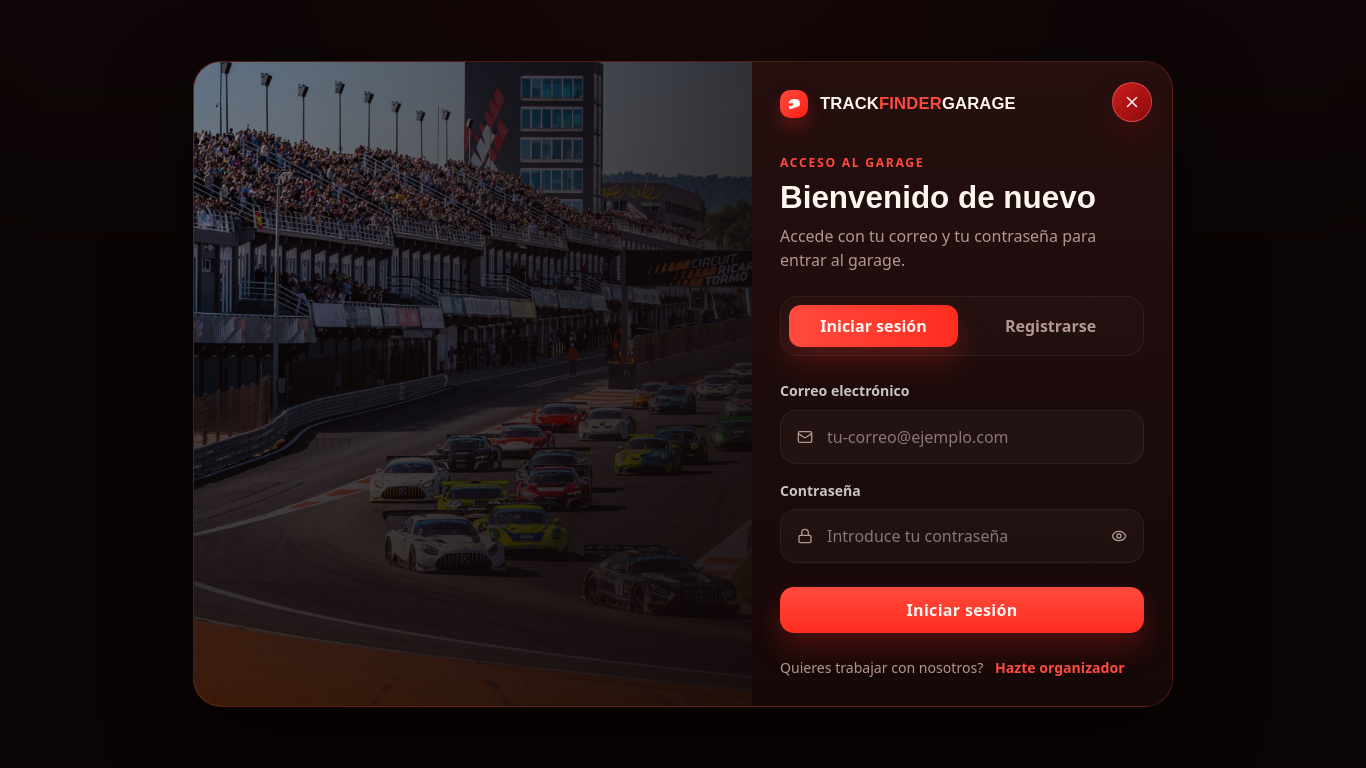
AuthDialog › renders backend login failures
Type "juanje@example.com" into the field labelled "Correo electrónico" at coordinates (970, 437), box [825, 424, 1115, 450]
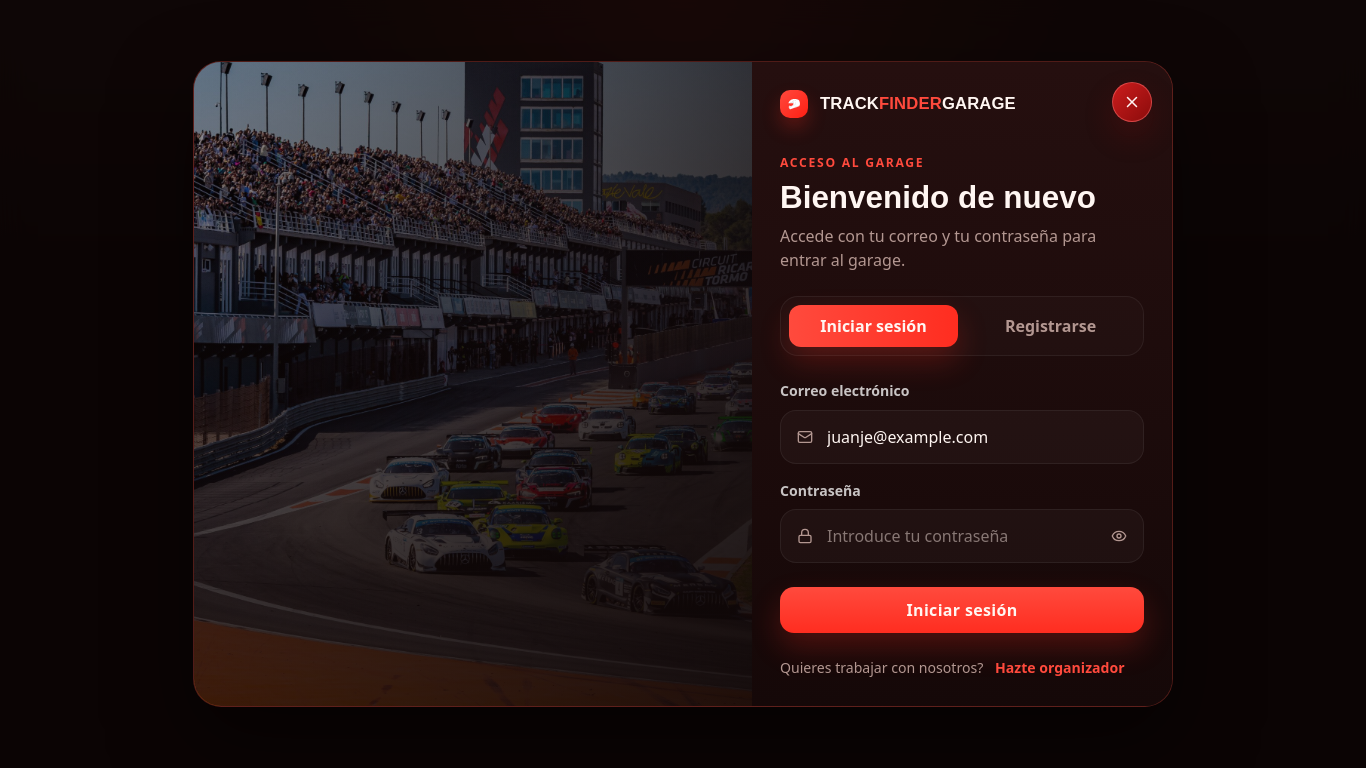
Type "secreto" into the password field labelled "Contraseña" at coordinates (962, 536), box [825, 523, 1099, 549]
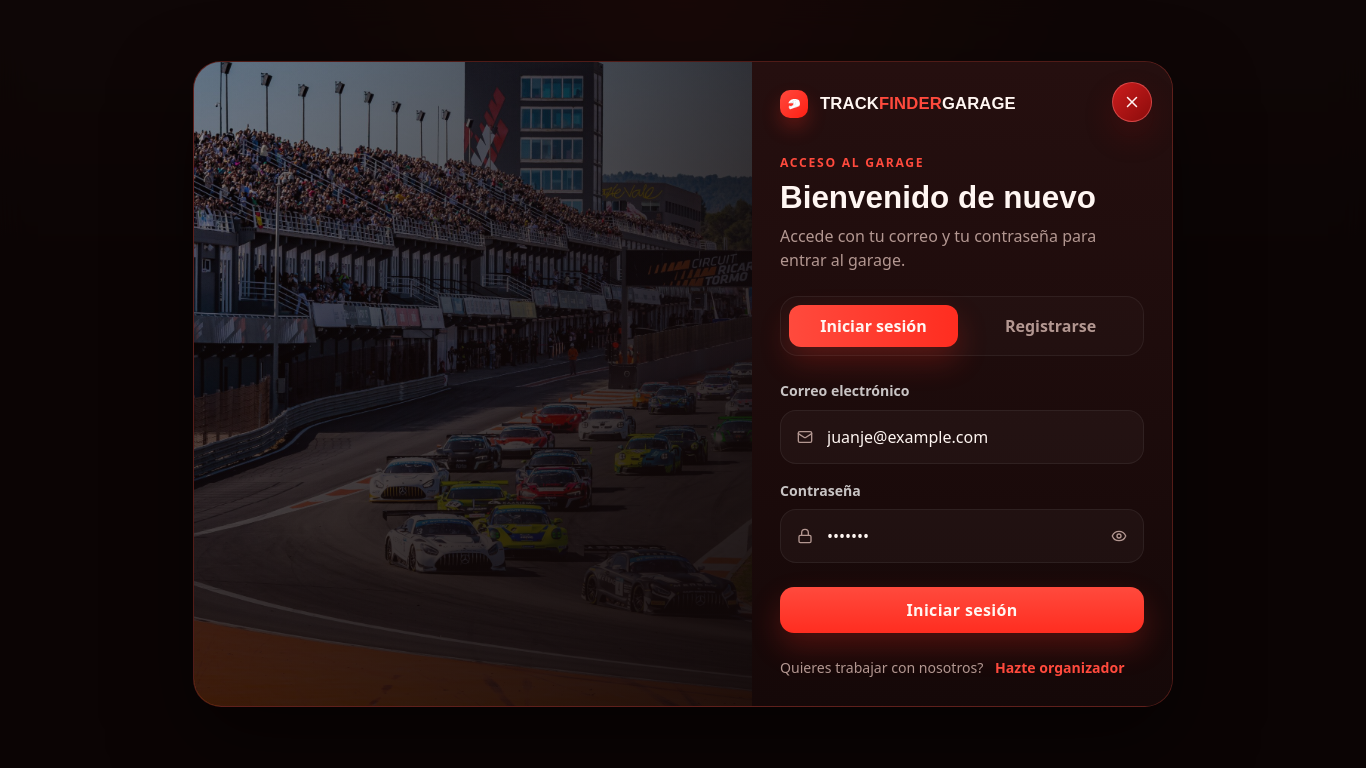
Submit the form, box [780, 380, 1144, 633]
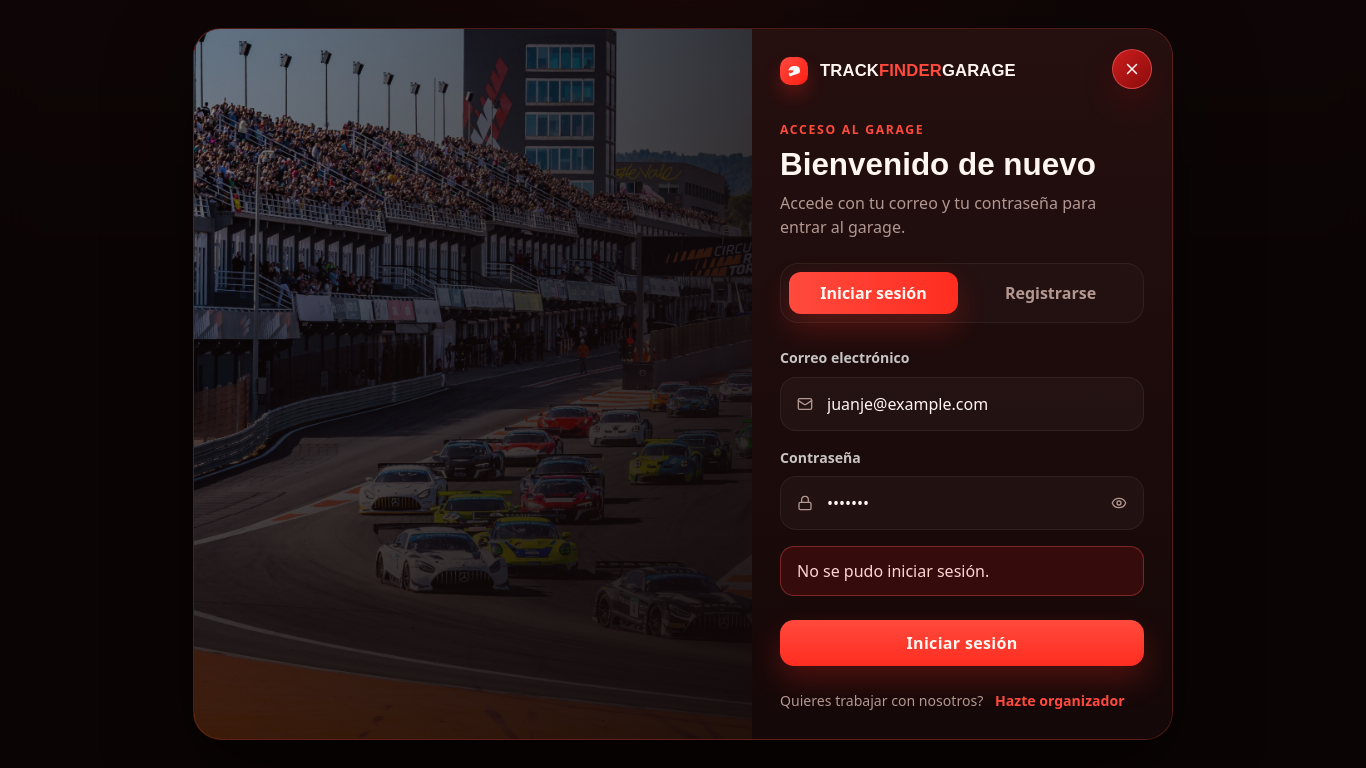
Check: the text "No se pudo iniciar sesión." is shown, box [780, 546, 1144, 596]
